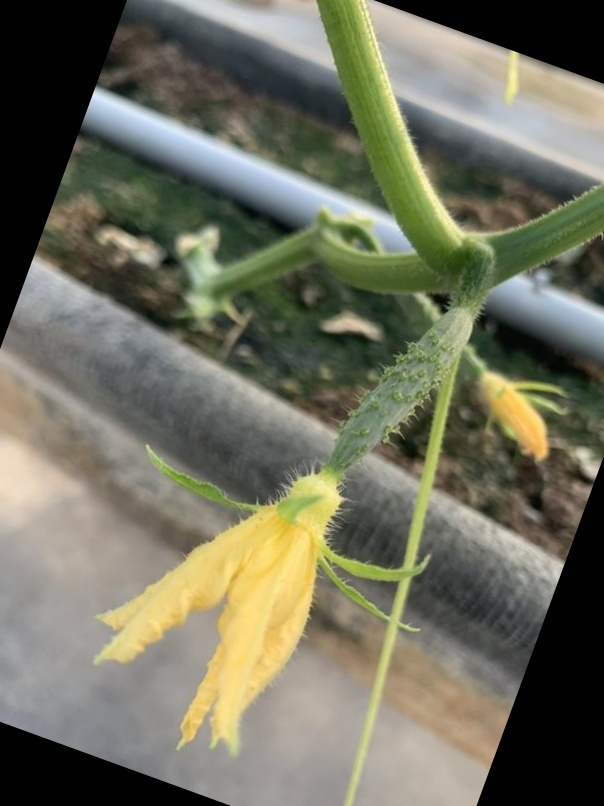bear: (84, 310, 472, 726)
